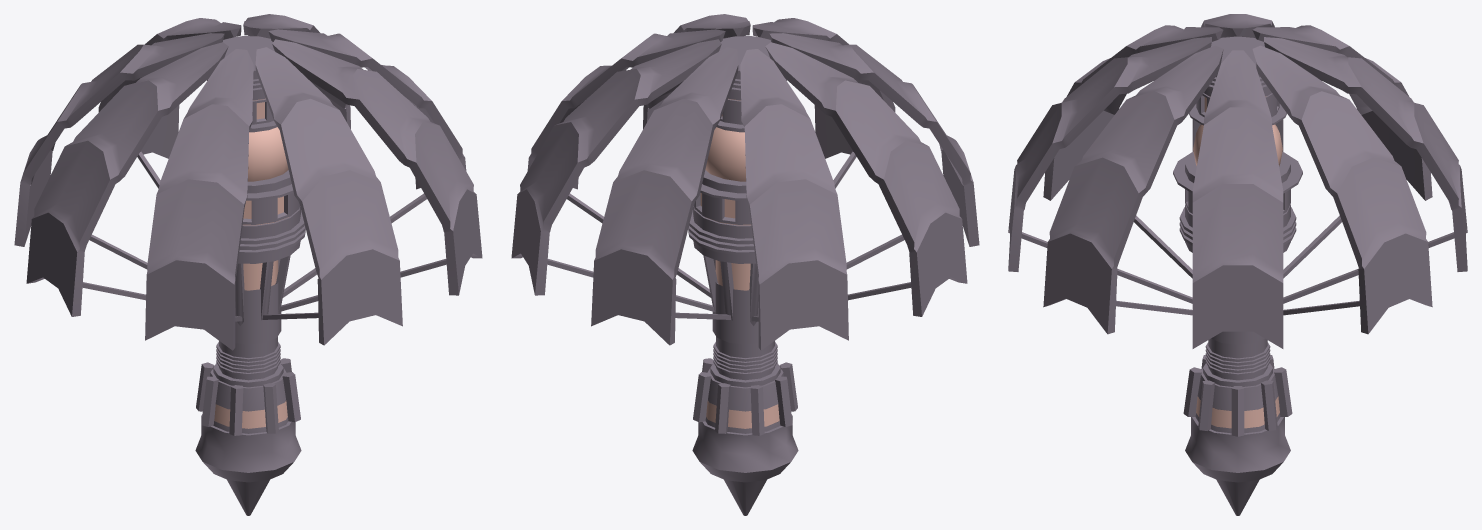
Rendered from core04201.fbx.
3 renders of one model, left to right at view 1: azimuth 30°, elevation 25°; view 2: azimuth 150°, elevation 25°; view 3: azimuth 270°, elevation 25°, orthographic.
Parts seen in each view (by area): view 1: Core; view 2: Core; view 3: Core.
Boxes of the visible parts, left/top/right/bottom form: Core: left=14, top=14, right=482, bottom=515; Core: left=511, top=14, right=979, bottom=515; Core: left=1008, top=14, right=1467, bottom=515.
Size of the model in its own units: 87.2 by 99.56 by 87.2.
